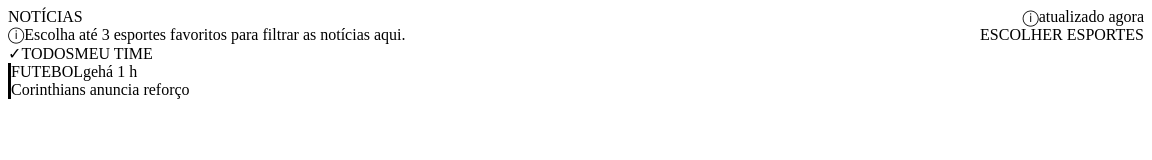
Test: SecaoNoticias › chip "Meu time" (busca de texto) › estado vazio da aba "Meu time" cita o nome do time, não "seu time" genérico
Click the button "Meu time".
click(114, 54)  # box [74,44,153,63]
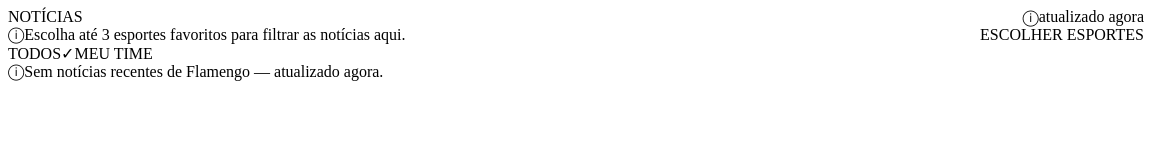
Check: the text "Sem notícias recentes de Flamengo — atualizado agora." is shown, box [24,63,383,80]
